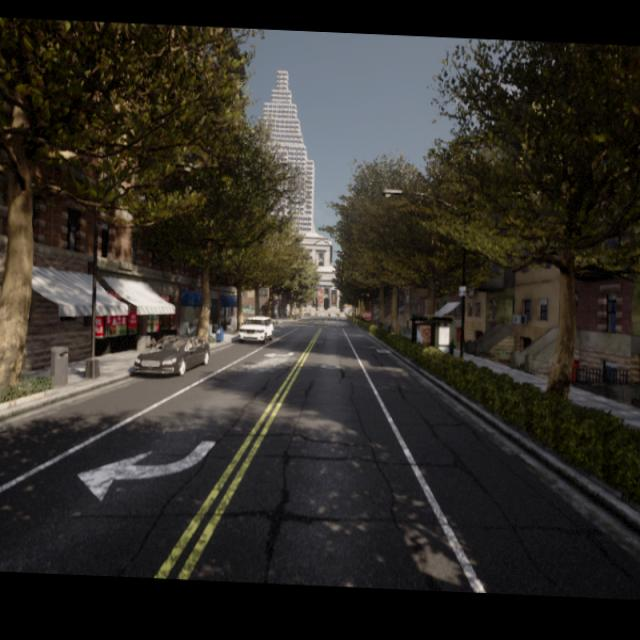stop sign: (359, 305, 377, 324)
